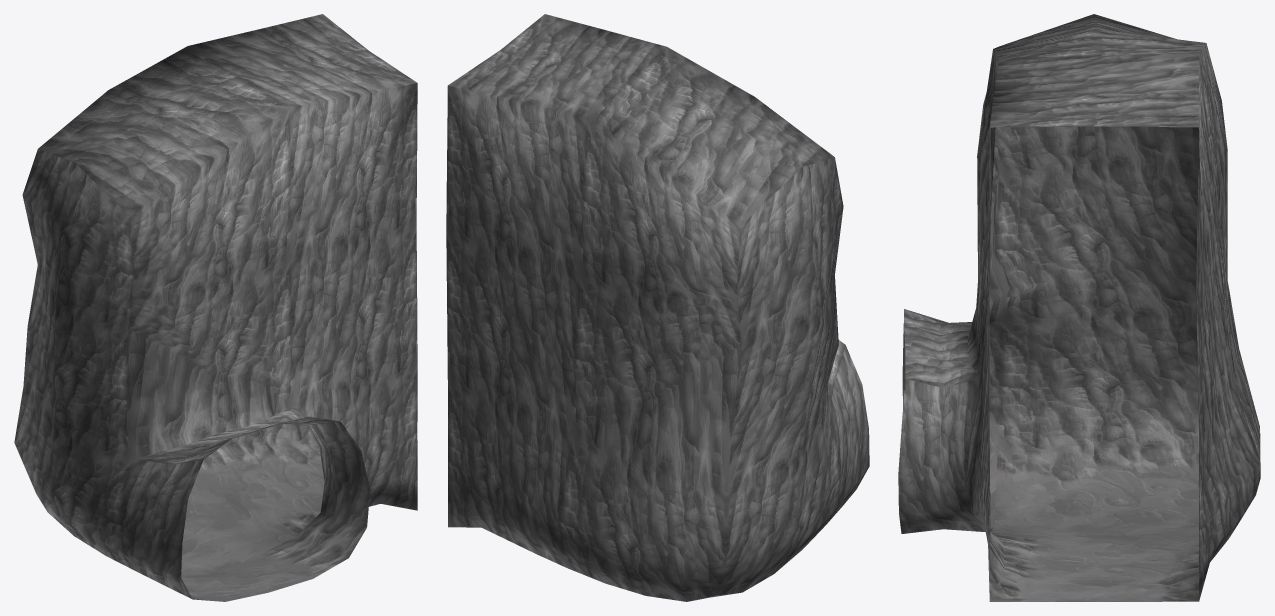
The model's file is SWORDLIGHT20_PS-AREA03-04TRANS_03.fbx.
3 views of the same model, side by side, from view 1: azimuth 30°, elevation 25°; view 2: azimuth 150°, elevation 25°; view 3: azimuth 270°, elevation 25° (orthographic). The views are drawn at different scales.
Parts seen in each view (by area): view 1: SWORDLIGHT20_PS-AREA03-04TRANS_03; view 2: SWORDLIGHT20_PS-AREA03-04TRANS_03; view 3: SWORDLIGHT20_PS-AREA03-04TRANS_03.
Boxes of the visible parts, bbox=[...] form: SWORDLIGHT20_PS-AREA03-04TRANS_03: bbox=[14, 14, 417, 601]; SWORDLIGHT20_PS-AREA03-04TRANS_03: bbox=[446, 14, 869, 601]; SWORDLIGHT20_PS-AREA03-04TRANS_03: bbox=[898, 14, 1260, 601].
Bounding box in the file's own units: 115834 × 156199 × 103845.
3 materials, 3 textured.
